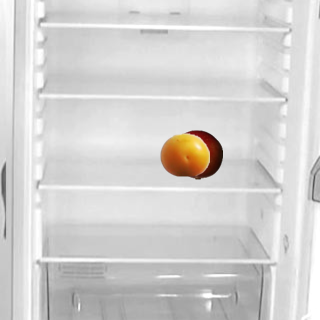Apple Braeburn: (172, 129, 222, 179)
Cherry Wax Yellow: (159, 129, 209, 179)
